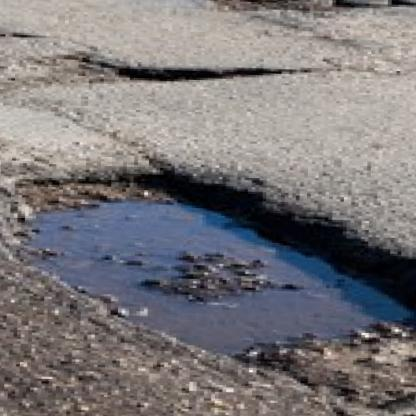pothole: (0, 160, 416, 411), (111, 61, 297, 86), (198, 0, 416, 19)
